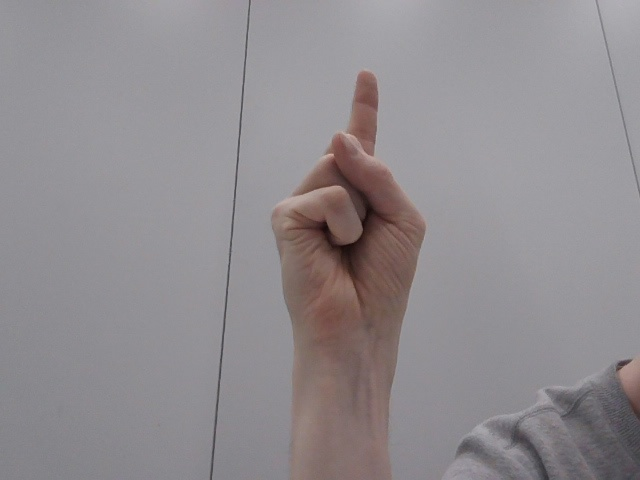up: (249, 34, 433, 368)
